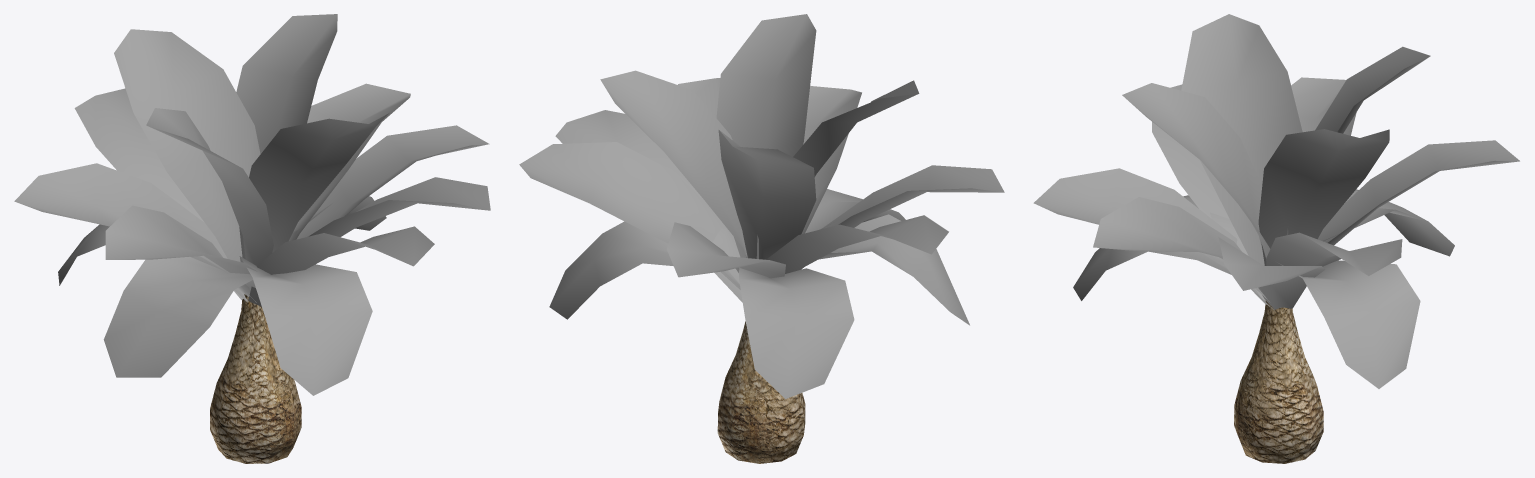
File: Hyp_2s_hi.fbx
3 views of the same model, side by side, from view 1: azimuth 30°, elevation 25°; view 2: azimuth 150°, elevation 25°; view 3: azimuth 270°, elevation 25° (orthographic).
Parts seen in each view (by area): view 1: Hyp_hi; view 2: Hyp_hi; view 3: Hyp_hi.
Part boxes in pixels (box(x1,y1,x2,y2)): Hyp_hi: box(14, 14, 490, 463); Hyp_hi: box(519, 14, 1004, 463); Hyp_hi: box(1033, 14, 1519, 463).
Size of the model in its own units: 1297 by 1098 by 1312.
